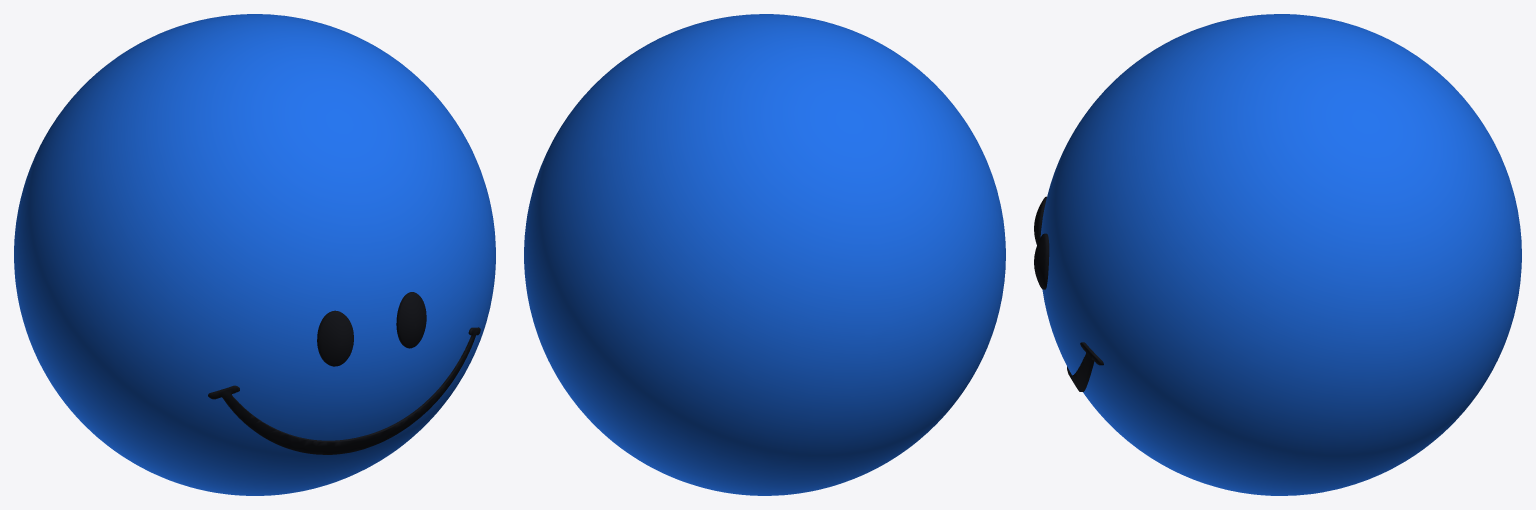
File: falsity_roblox.glb
3 renders of one model, left to right at view 1: azimuth 30°, elevation 25°; view 2: azimuth 150°, elevation 25°; view 3: azimuth 270°, elevation 25°, orthographic.
Parts seen in each view (by area): view 1: Falsity_Body, Falsity_Mouth, Falsity_Eyes; view 2: Falsity_Body; view 3: Falsity_Body, Falsity_Eyes, Falsity_Mouth.
Part boxes in pixels (<box>): Falsity_Body: <box>14,14,495,495</box>; Falsity_Mouth: <box>208,327,480,454</box>; Falsity_Eyes: <box>317,292,426,366</box>; Falsity_Body: <box>524,14,1005,495</box>; Falsity_Body: <box>1040,14,1521,495</box>; Falsity_Eyes: <box>1034,196,1049,289</box>; Falsity_Mouth: <box>1067,342,1103,391</box>.
Size of the model in its own units: 2.2 by 2.15 by 2.23.
Materials: 2 (2 with a texture image).
